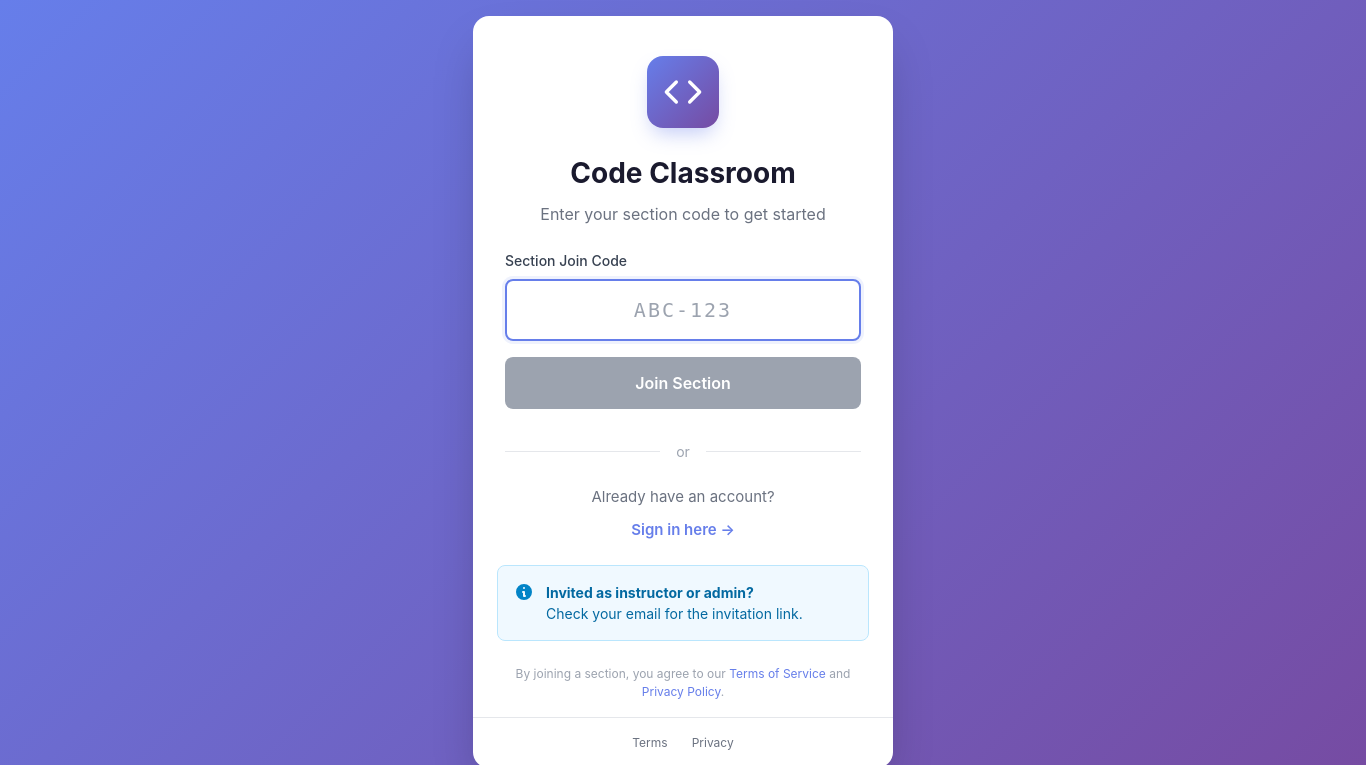
Test: Landing Page › Join Code Validation › clears error when typing
The image size is (1366, 765).
Type "ABC" into the field with placeholder "ABC-123" at point(683, 310), box [505,279,861,341]
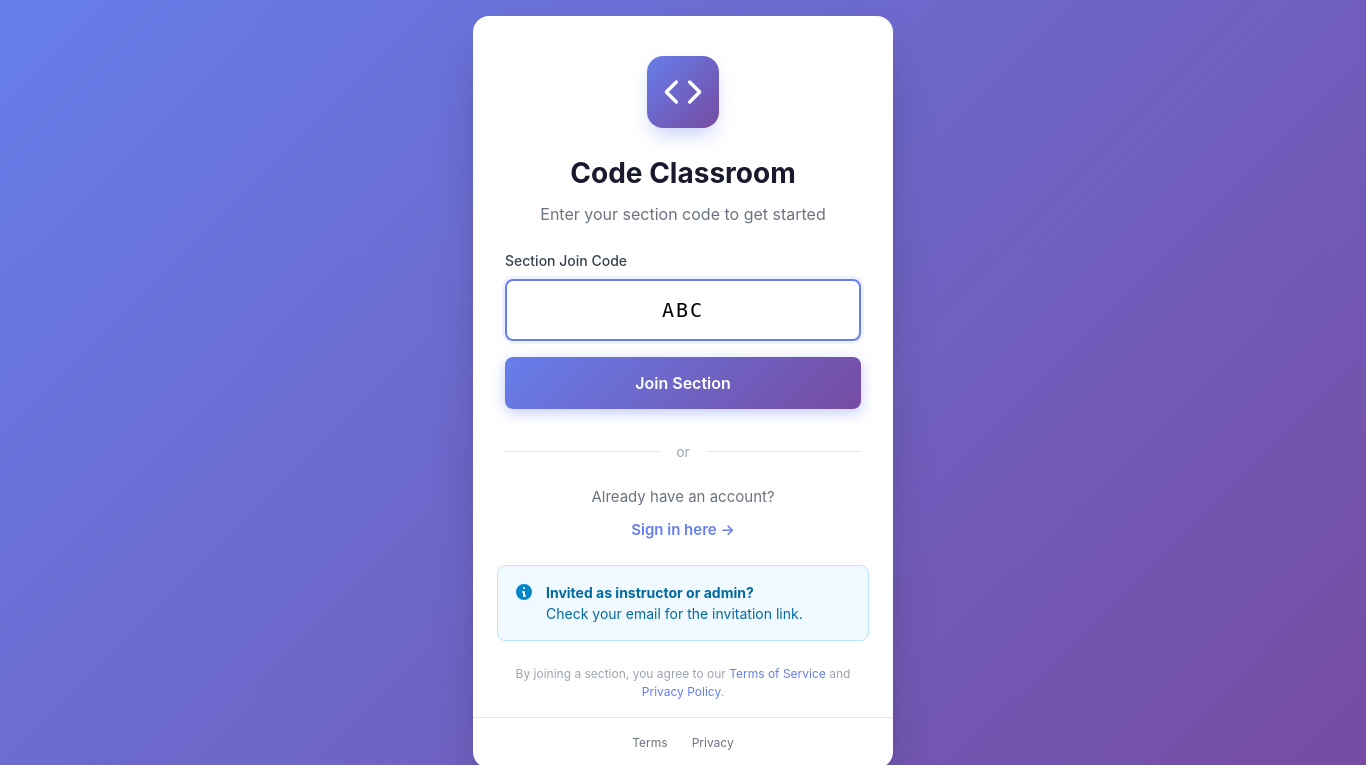
Click the button "Join Section" at point(683, 383), box [505,357,861,409]
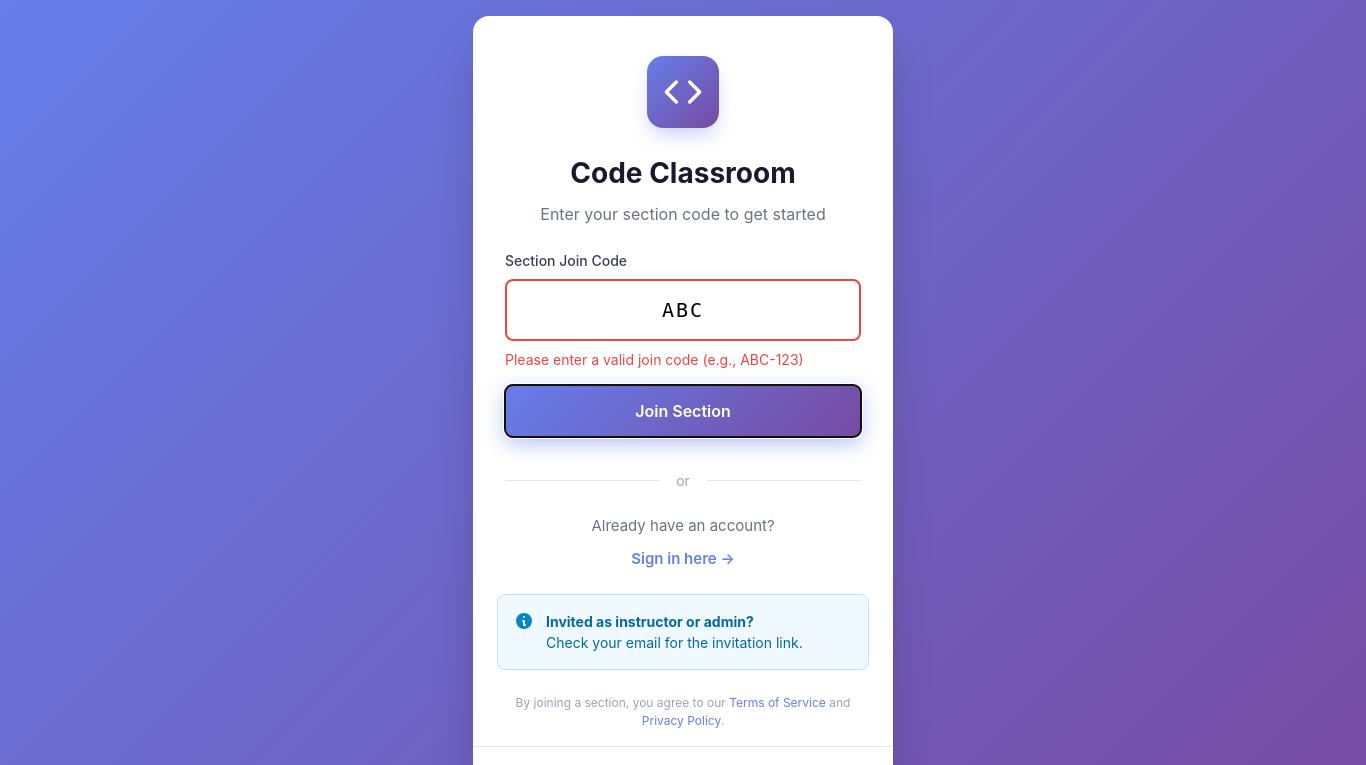
Expected: the text "Please enter a valid join code (e.g., ABC-123)" is shown, [505,351,804,368]
Type more characters - error should clear
Type "123" into the field with placeholder "ABC-123" at point(683, 310), box [505,279,861,341]
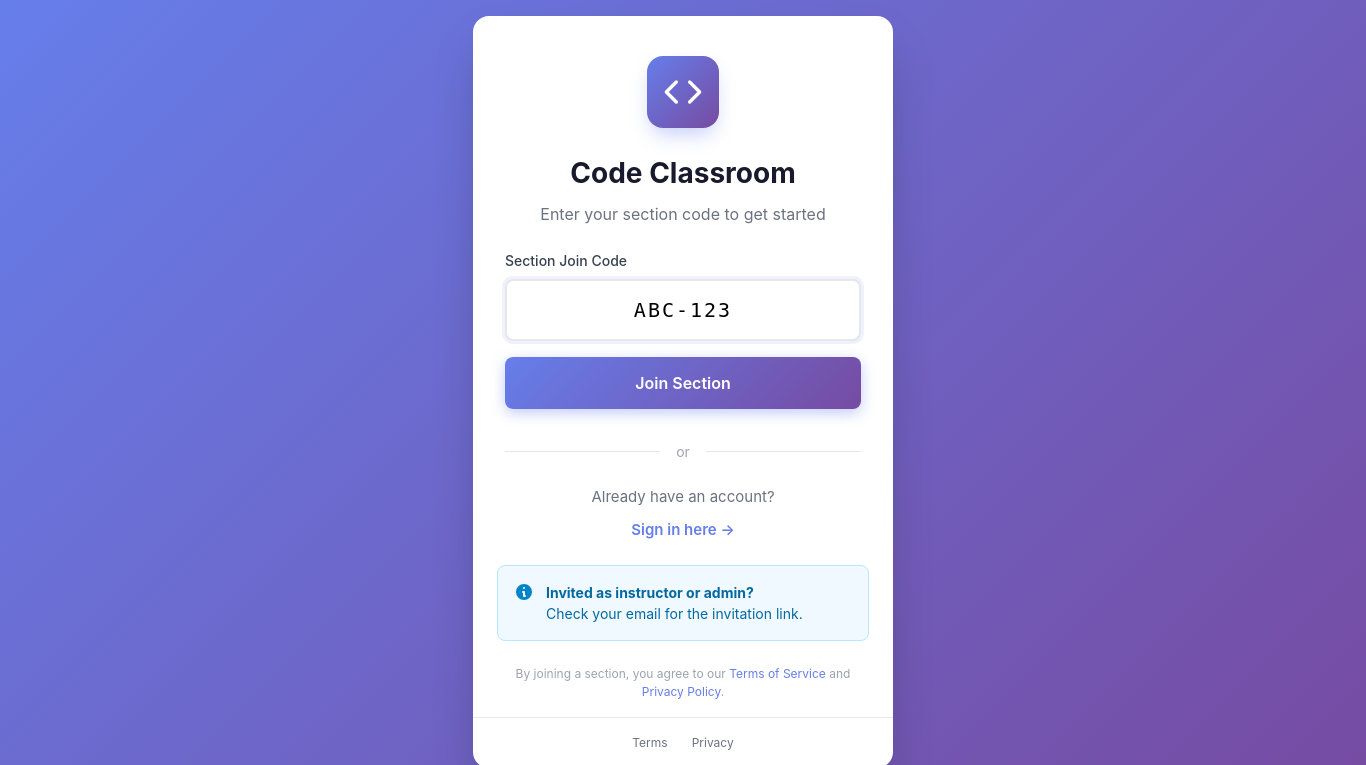
Expected: the text "Please enter a valid join code (e.g., ABC-123)" is gone
